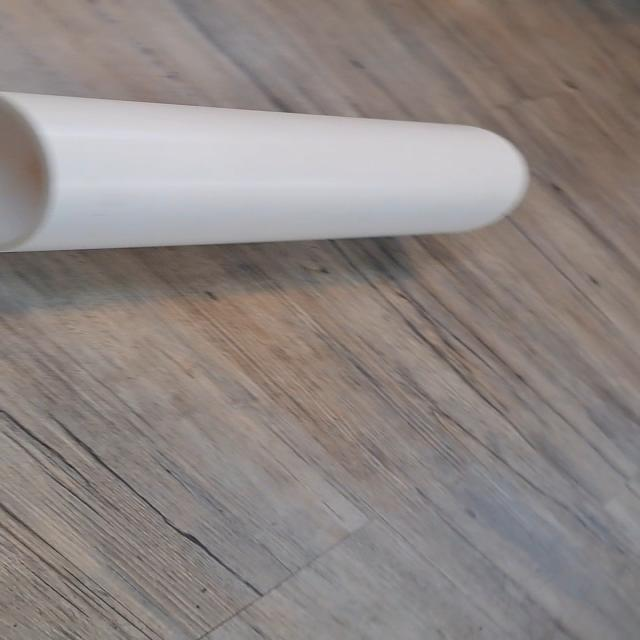CORAL: (0, 69, 540, 268)
